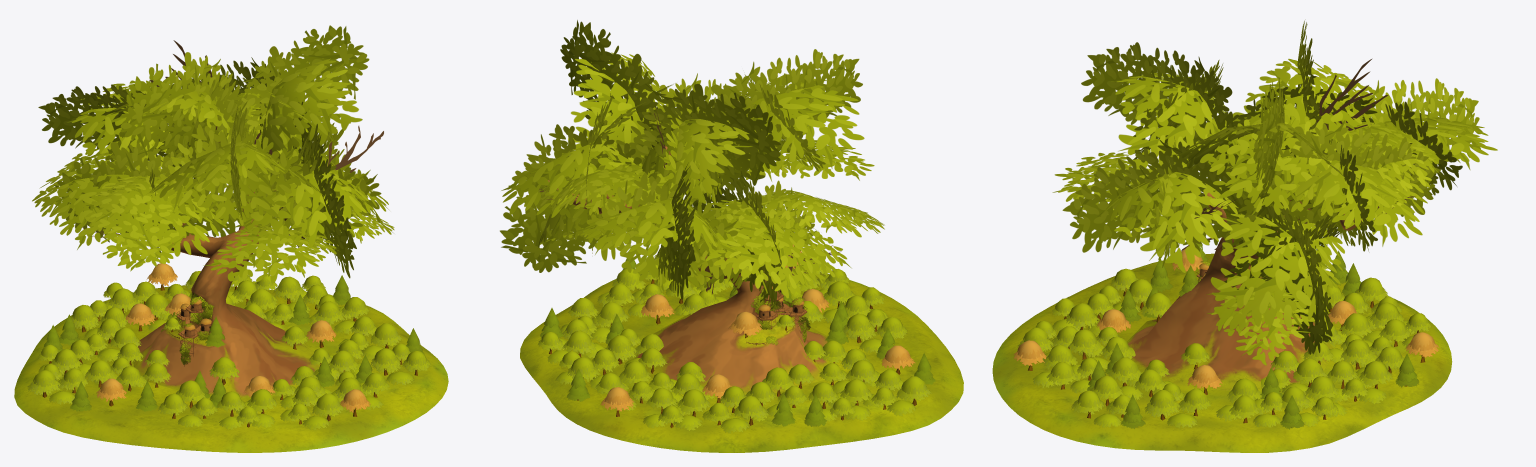
Rendered from tree.gltf.
3 renders of one model, left to right at view 1: azimuth 30°, elevation 25°; view 2: azimuth 150°, elevation 25°; view 3: azimuth 270°, elevation 25°, orthographic. The views are drawn at different scales.
Visible parts, largest first — view 1: Circle, Plane, Plane.011, Plane.013, Plane.010, Plane.002, Plane.017, Plane.008, Plane.014, Plane.018, Plane.019, Plane.029 (+28 smaller); view 2: Circle, Plane.010, Plane, Plane.014, Plane.013, Plane.011, Plane.009, Plane.019, Plane.008, Plane.012, Plane.017, Plane.016 (+24 smaller); view 3: Circle, Plane.002, Plane.012, Plane.013, Plane.009, Plane, Plane.011, Plane.014, Plane.010, Plane.016, Plane.015, Plane.039 (+22 smaller).
Part boxes in pixels (<box>): Circle: <box>14,285,448,452</box>; Plane: <box>133,126,319,399</box>; Plane.011: <box>238,25,369,194</box>; Plane.013: <box>149,107,324,229</box>; Plane.010: <box>111,52,257,171</box>; Plane.002: <box>233,124,388,278</box>; Plane.017: <box>86,166,189,271</box>; Plane.008: <box>54,142,244,261</box>; Plane.014: <box>38,71,205,179</box>; Plane.018: <box>203,225,339,283</box>; Plane.019: <box>32,148,138,249</box>; Plane.029: <box>217,389,277,429</box>; Circle: <box>520,266,963,452</box>; Plane.010: <box>611,84,780,207</box>; Plane: <box>546,145,827,394</box>; Plane.014: <box>574,164,738,299</box>; Plane.013: <box>692,49,864,179</box>; Plane.011: <box>560,20,686,195</box>; Plane.009: <box>501,95,663,253</box>; Plane.019: <box>705,214,851,298</box>; Plane.008: <box>681,172,816,304</box>; Plane.012: <box>500,153,632,272</box>; Plane.017: <box>710,190,884,237</box>; Plane.016: <box>538,163,689,218</box>; Circle: <box>992,253,1452,452</box>; Plane.002: <box>1062,136,1272,273</box>; Plane.012: <box>1206,190,1344,354</box>; Plane.013: <box>1081,42,1238,182</box>; Plane.009: <box>1236,120,1440,251</box>; Plane: <box>1127,192,1361,390</box>; Plane.011: <box>1177,77,1356,215</box>; Plane.014: <box>1346,78,1497,196</box>; Plane.010: <box>1216,20,1381,171</box>; Plane.016: <box>1329,122,1439,234</box>; Plane.015: <box>1207,272,1314,365</box>; Plane.039: <box>1216,378,1283,427</box>.
Bounding box in the file's own units: 13.45 × 10.24 × 14.53.
5 materials, 5 textured.
